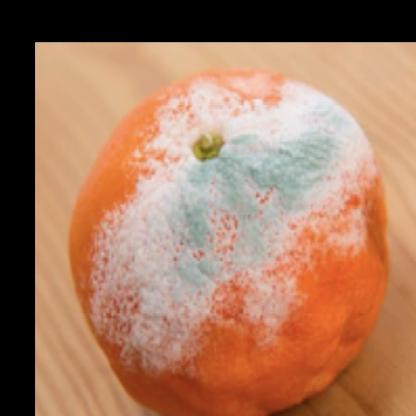rotten: (79, 68, 390, 416)
